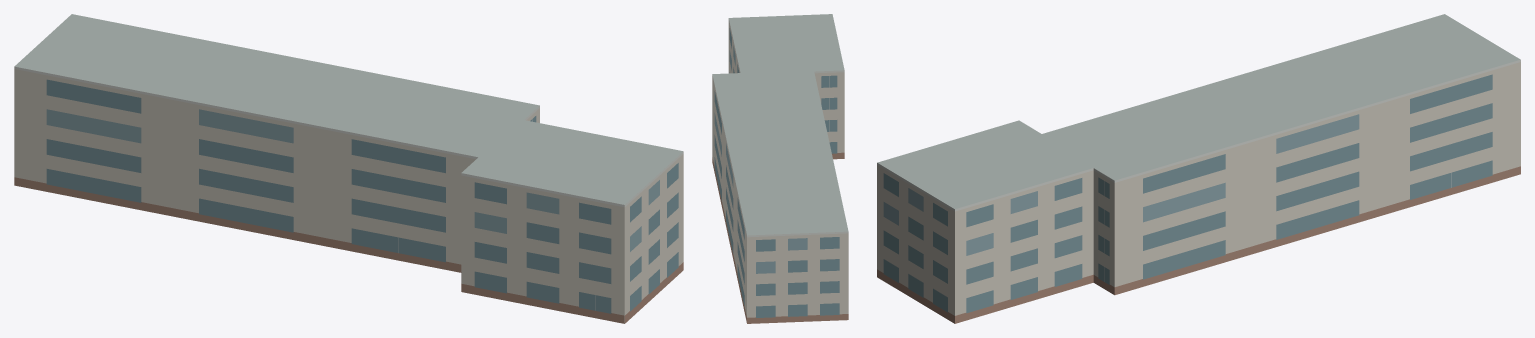
Rendered from residential-9a255653-9e39-4802-93ab-45860670b05c.glb.
3 views of the same model, side by side, from view 1: azimuth 30°, elevation 25°; view 2: azimuth 150°, elevation 25°; view 3: azimuth 270°, elevation 25° (orthographic). The views are drawn at different scales.
Visible parts, largest first — view 1: residential-9a255653-9e39-4802-93ab-45860670b05c.tmp; view 2: residential-9a255653-9e39-4802-93ab-45860670b05c.tmp; view 3: residential-9a255653-9e39-4802-93ab-45860670b05c.tmp.
Boxes of the visible parts, box(x1,y1,x2,y2) form: residential-9a255653-9e39-4802-93ab-45860670b05c.tmp: box(14, 14, 683, 323); residential-9a255653-9e39-4802-93ab-45860670b05c.tmp: box(712, 14, 848, 323); residential-9a255653-9e39-4802-93ab-45860670b05c.tmp: box(877, 14, 1520, 323).
Size of the model in its own units: 44.58 by 12.2 by 62.09.
